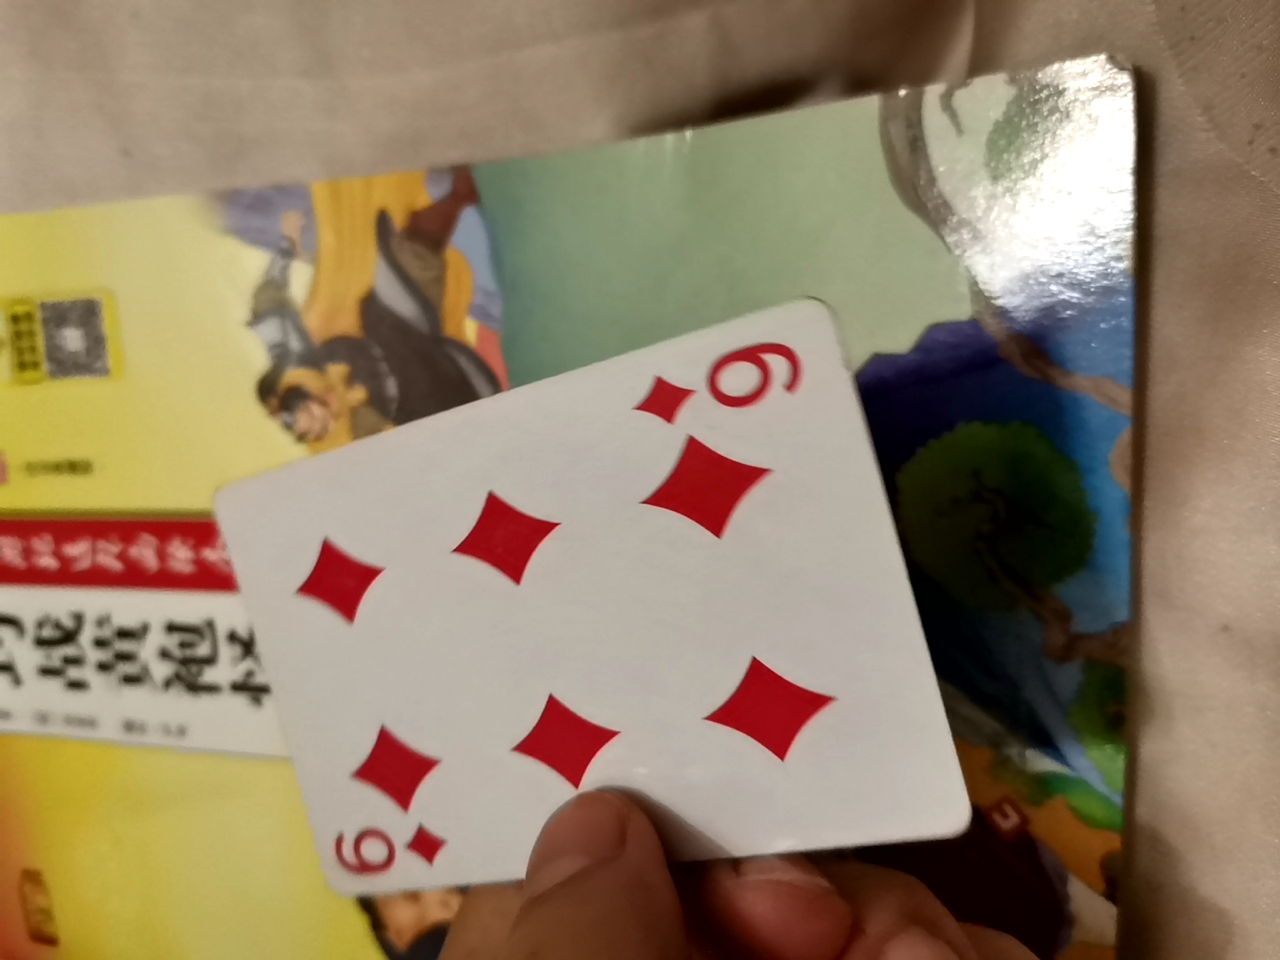fk 6: (186, 316, 976, 902)
